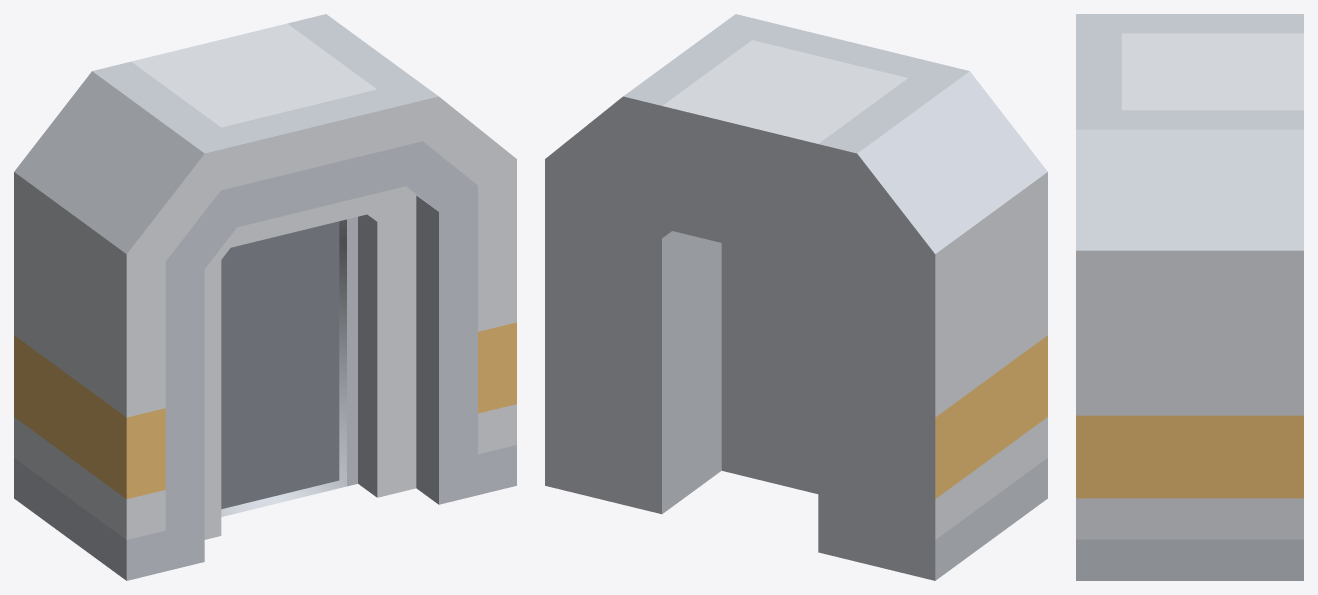
Rendered from corridor-exit.fbx.
3 views of the same model, side by side, from view 1: azimuth 30°, elevation 25°; view 2: azimuth 150°, elevation 25°; view 3: azimuth 270°, elevation 25° (orthographic).
Parts seen in each view (by area): view 1: corridor_doorway, corridor-door; view 2: corridor_doorway, corridor-door; view 3: corridor_doorway.
Boxes of the visible parts, bbox=[...] form: corridor_doorway: bbox=[14, 14, 516, 580]; corridor-door: bbox=[221, 217, 357, 516]; corridor_doorway: bbox=[545, 14, 1047, 580]; corridor-door: bbox=[721, 243, 818, 493]; corridor_doorway: bbox=[1076, 14, 1303, 580].
Size of the model in its own units: 100 by 100 by 50.
